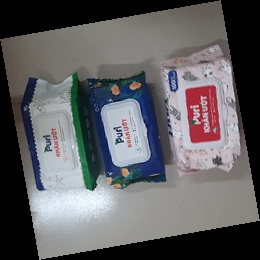Puri Trang: (18, 72, 102, 194)
Puri Xanh: (87, 69, 170, 190)
Puri hong: (160, 44, 246, 180)
